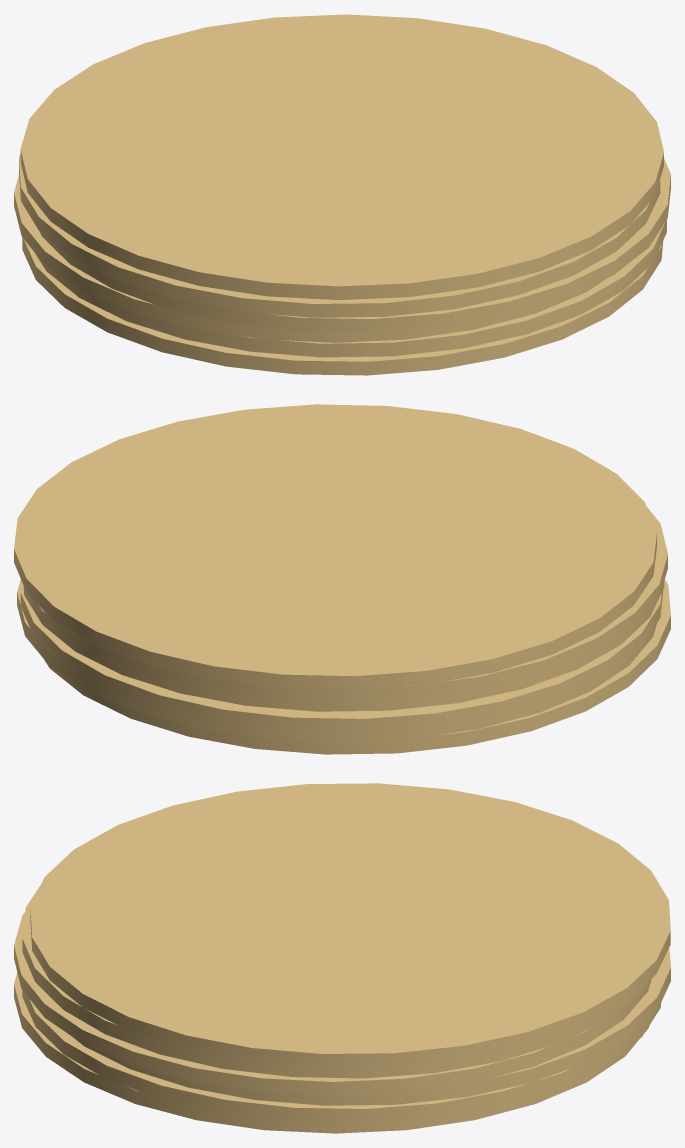
The model's file is Tortillas.fbx.
The picture shows the model from 3 angles, top to bottom: view 1: azimuth 30°, elevation 25°; view 2: azimuth 150°, elevation 25°; view 3: azimuth 270°, elevation 25°; orthographic projection.
Visible parts, largest first — view 1: Tortillas; view 2: Tortillas; view 3: Tortillas.
Boxes of the visible parts, x1,y1,x2,y2 form: Tortillas: (14,14,670,375); Tortillas: (14,404,670,754); Tortillas: (14,783,670,1133).
Bounding box in the file's own units: 0.172 × 0.024 × 0.1737.
